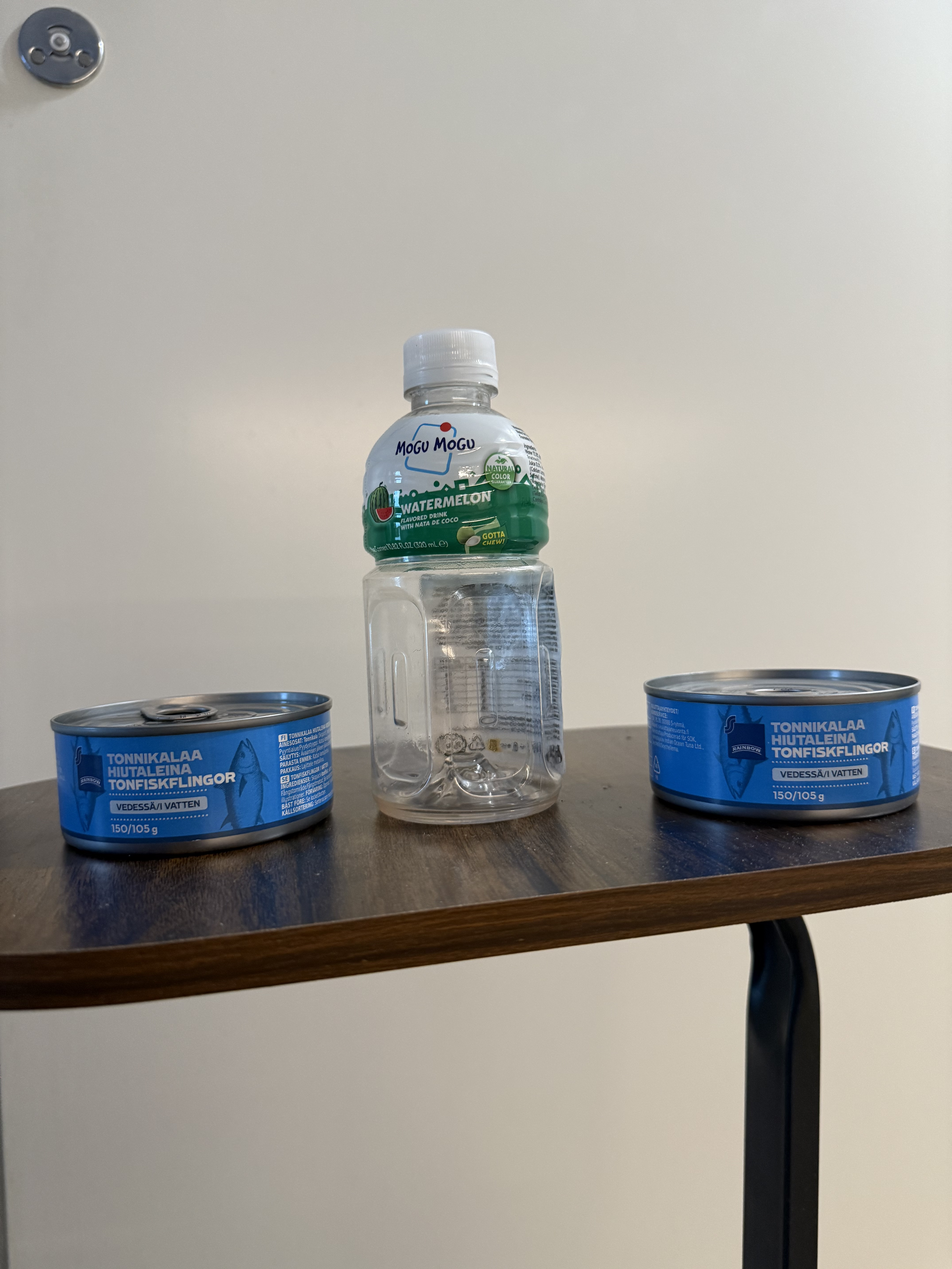Konservburk: (47, 699, 336, 840), (646, 671, 926, 815)
Pantburk: (356, 329, 568, 820)
